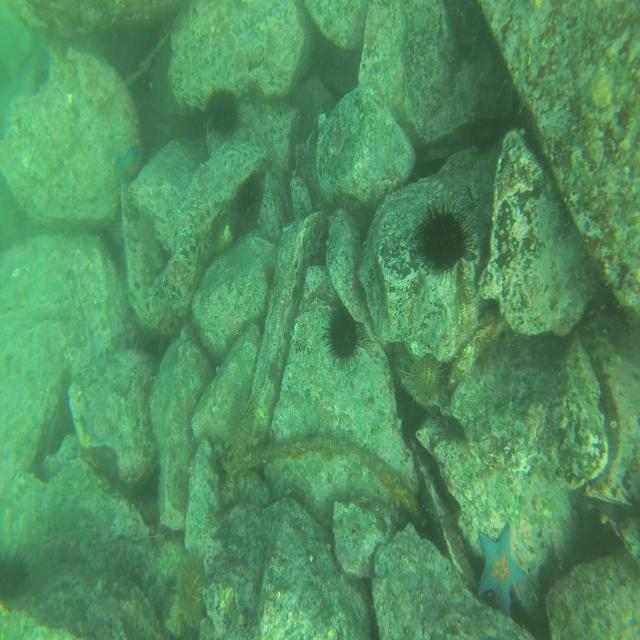echinus: (414, 210, 470, 269), (226, 389, 258, 459), (326, 306, 361, 368), (178, 556, 208, 628), (406, 354, 445, 404), (204, 87, 242, 137), (1, 554, 26, 603), (236, 171, 258, 215)
starfish: (475, 527, 524, 618), (115, 147, 144, 187)
